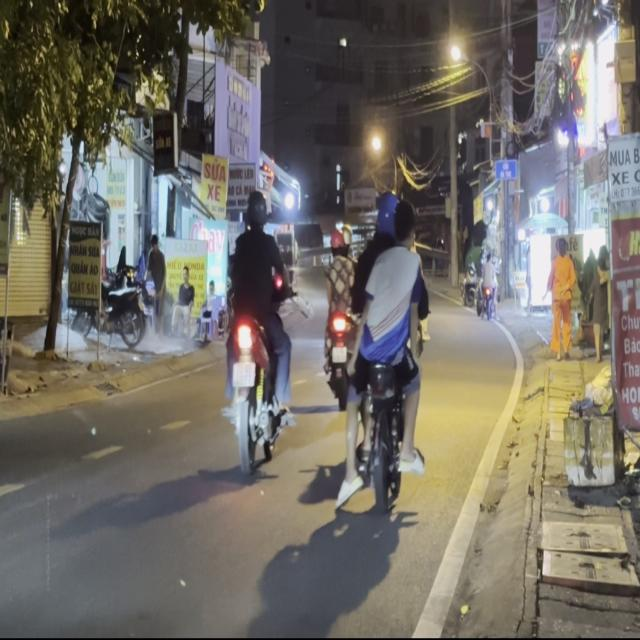helmet: (372, 191, 398, 246), (243, 188, 266, 230)
licenseplate: (338, 190, 432, 514), (218, 186, 294, 476)
motorcyclist: (392, 197, 416, 246)
nohelmet: (232, 361, 255, 387)
